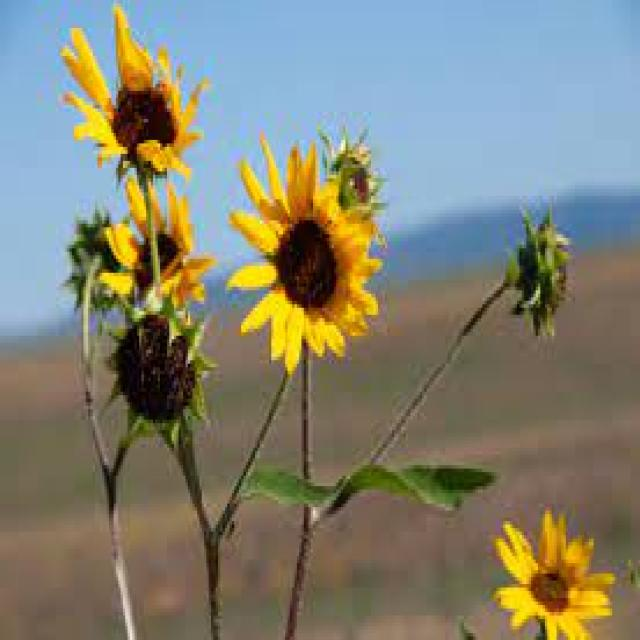sunflower: (224, 120, 385, 387), (55, 3, 218, 180), (94, 170, 225, 366), (490, 504, 620, 640), (315, 112, 390, 249)
